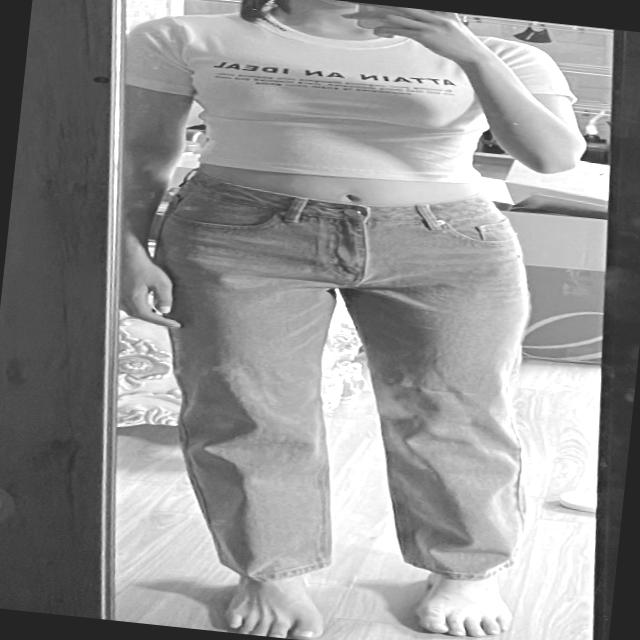denimpants: (121, 167, 556, 601)
shortsleeve: (98, 0, 582, 201)
